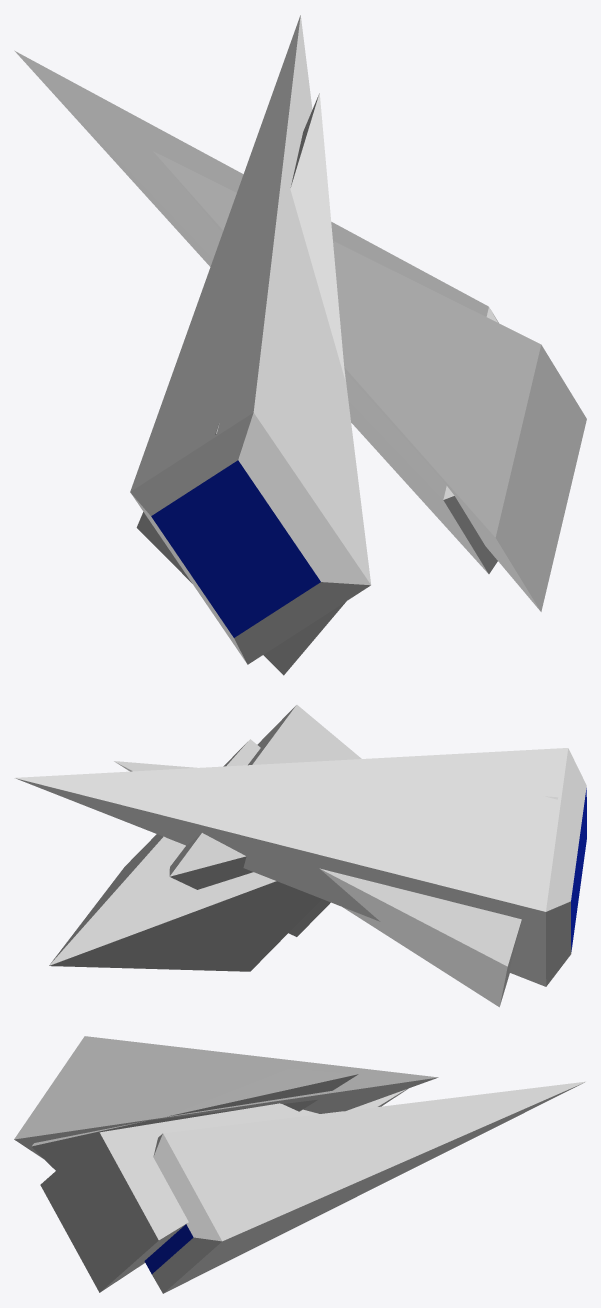
The model's file is studJewelSilver.glb.
3 views of the same model, one above another, from view 1: azimuth 30°, elevation 25°; view 2: azimuth 150°, elevation 25°; view 3: azimuth 270°, elevation 25° (orthographic). The views are drawn at different scales.
Visible parts, largest first — view 1: stud jeweled Bronze, stud plain Silver; view 2: stud jeweled Bronze, stud plain Silver; view 3: stud jeweled Bronze, stud plain Silver.
Part boxes in pixels (bbox=[...]): stud jeweled Bronze: bbox=[14, 15, 498, 664]; stud plain Silver: bbox=[136, 93, 586, 675]; stud jeweled Bronze: bbox=[15, 739, 586, 986]; stud plain Silver: bbox=[114, 705, 558, 1007]; stud jeweled Bronze: bbox=[14, 1036, 585, 1293]; stud plain Silver: bbox=[31, 1068, 408, 1292].
Size of the model in its own units: 0.0236 by 0.0197 by 0.0435.
